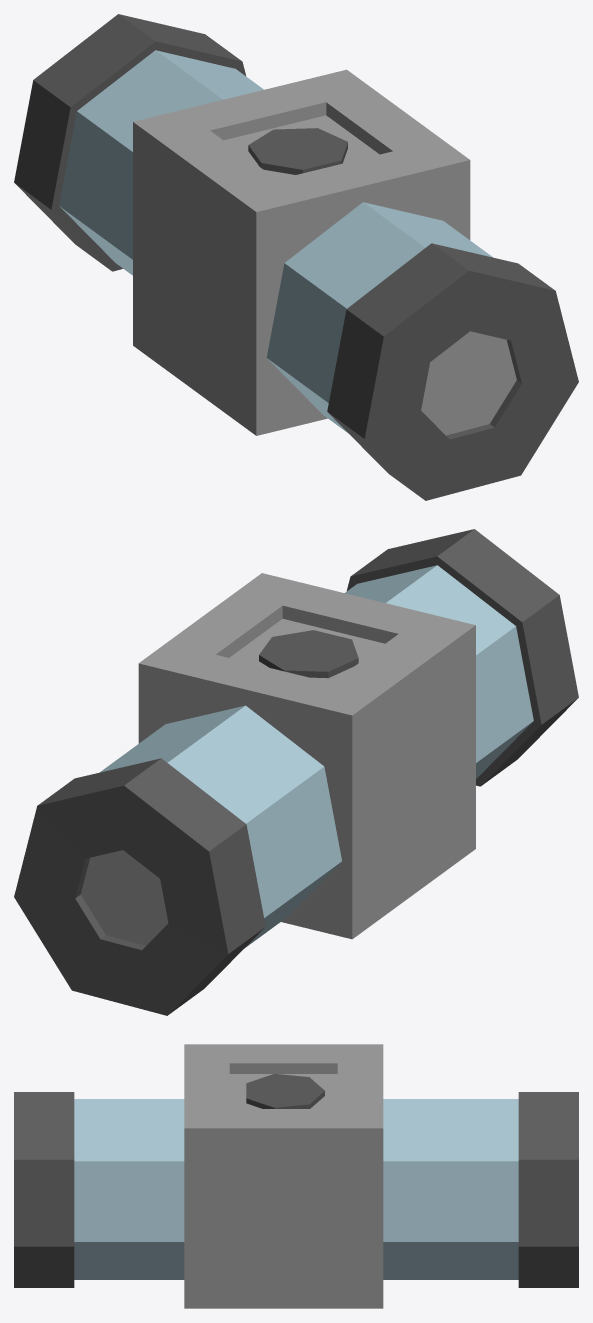
The model's file is fragment de tunnel 03 03.fbx.
3 views of the same model, one above another, from view 1: azimuth 30°, elevation 25°; view 2: azimuth 150°, elevation 25°; view 3: azimuth 270°, elevation 25° (orthographic). The views are drawn at different scales.
Parts seen in each view (by area): view 1: Cube, Cylinder.005, Cylinder.001, Cylinder.004, Cylinder.006; view 2: Cube, Cylinder.004, Cylinder.001, Cylinder.005, Cylinder.006; view 3: Cube, Cylinder.001, Cylinder.004, Cylinder.005, Cylinder.006.
Boxes of the visible parts, box(x1,y1,x2,y2) form: Cube: box(133, 69, 470, 435); Cylinder.005: box(327, 243, 578, 500); Cylinder.001: box(59, 50, 492, 433); Cylinder.004: box(14, 14, 245, 271); Cylinder.006: box(248, 128, 347, 174); Cube: box(138, 573, 475, 939); Cylinder.004: box(14, 758, 265, 1015); Cylinder.001: box(100, 565, 533, 948); Cylinder.005: box(347, 529, 578, 786); Cylinder.006: box(259, 630, 358, 678); Cube: box(184, 1044, 383, 1308); Cylinder.001: box(74, 1099, 518, 1279); Cylinder.004: box(518, 1092, 578, 1287); Cylinder.005: box(14, 1092, 74, 1287); Cylinder.006: box(246, 1073, 324, 1108).
Bounding box in the file's own units: 213 × 213 × 598.
